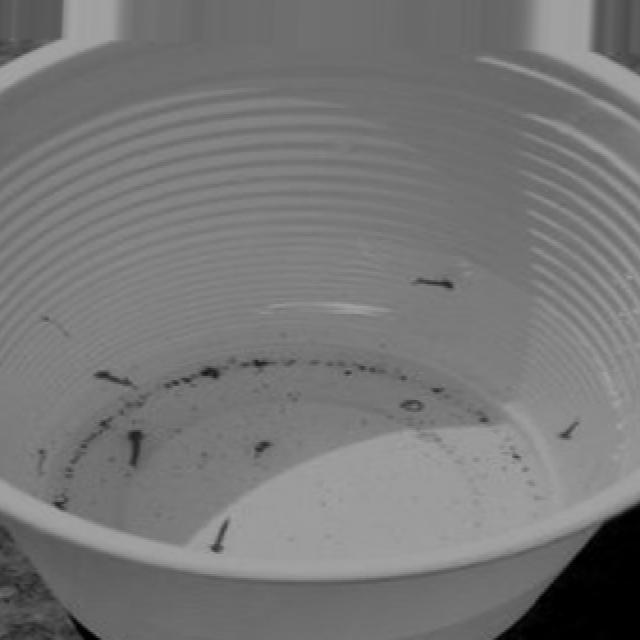larvas: (95, 368, 134, 390), (46, 314, 68, 343), (415, 273, 450, 290), (128, 425, 141, 469), (212, 518, 228, 552), (562, 418, 579, 441), (403, 396, 422, 416), (38, 446, 47, 478)
